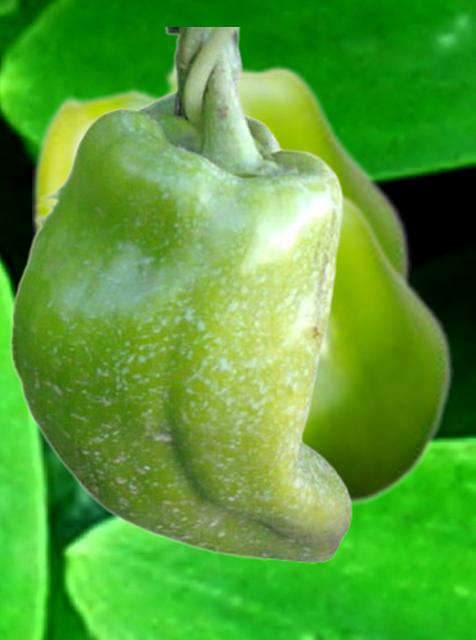bell_pepper: (8, 27, 352, 562), (32, 60, 410, 280), (304, 188, 452, 510)
